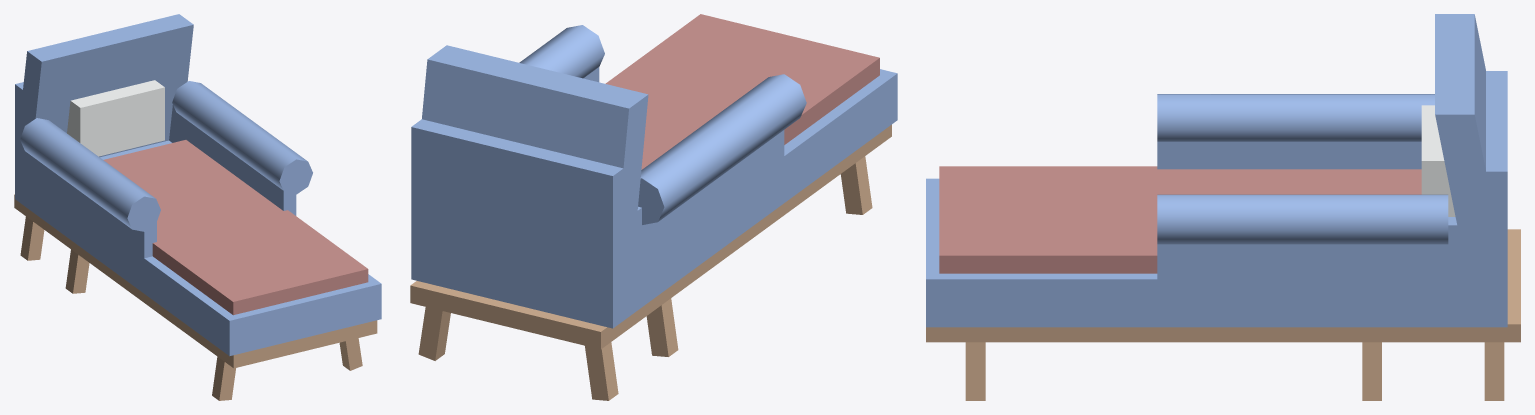
The model's file is chaiseLongue.glb.
3 renders of one model, left to right at view 1: azimuth 30°, elevation 25°; view 2: azimuth 150°, elevation 25°; view 3: azimuth 270°, elevation 25°, orthographic. The views are drawn at different scales.
Parts seen in each view (by area): view 1: chaiseLongue; view 2: chaiseLongue; view 3: chaiseLongue.
Boxes of the visible parts, x1,y1,x2,y2 form: chaiseLongue: (14, 14, 381, 400); chaiseLongue: (410, 14, 897, 400); chaiseLongue: (926, 14, 1520, 400).
Bounding box in the file's own units: 0.44 × 0.4872 × 0.9.
